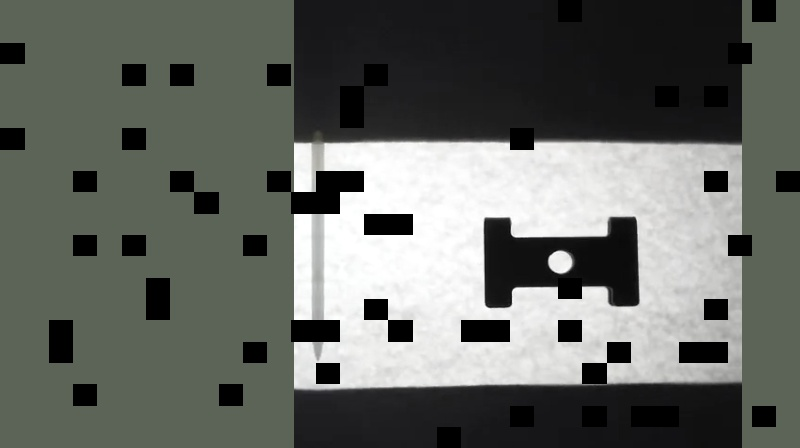O002: (480, 213, 643, 313)
